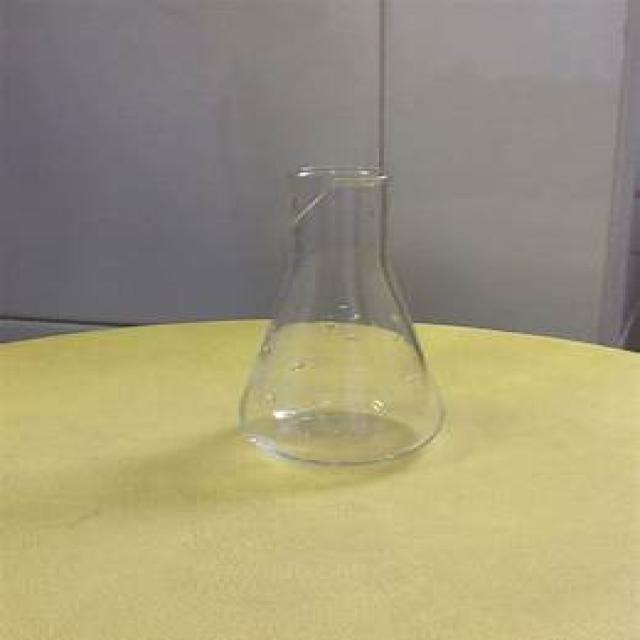Titrarion: (242, 156, 449, 466)
